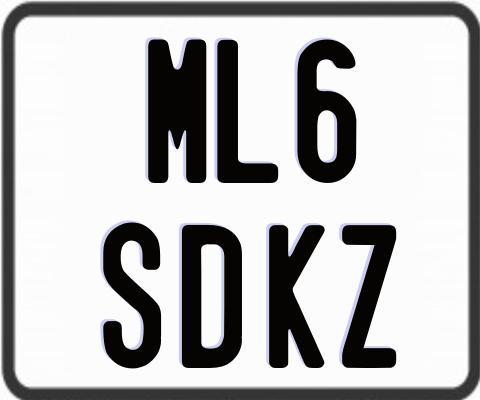6: (294, 36, 354, 182)
D: (181, 224, 244, 371)
K: (267, 225, 328, 372)
L: (216, 38, 282, 181)
M: (148, 39, 207, 186)
S: (103, 221, 163, 369)
Z: (341, 225, 400, 369)
